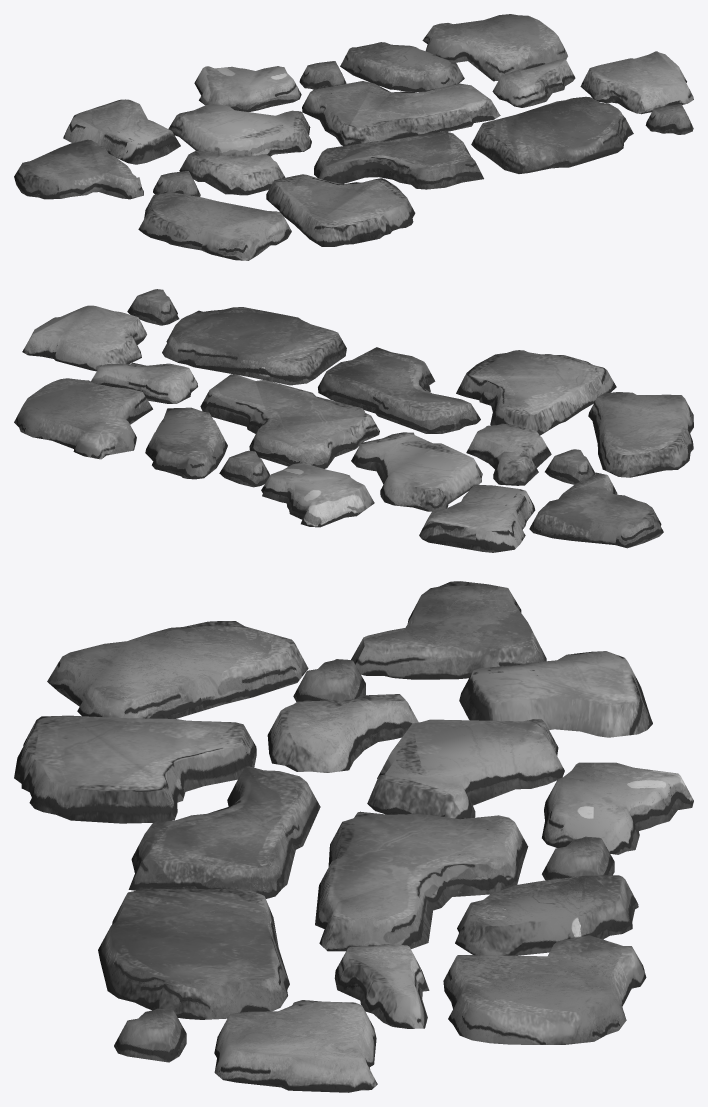
File: StonePath01.fbx
3 views of the same model, one above another, from view 1: azimuth 30°, elevation 25°; view 2: azimuth 150°, elevation 25°; view 3: azimuth 270°, elevation 25° (orthographic). The views are drawn at different scales.
Visible parts, largest first — view 1: StonePath01; view 2: StonePath01; view 3: StonePath01.
Boxes of the visible parts, x1=… form: StonePath01: x1=14, y1=14, x2=693, y2=260; StonePath01: x1=14, y1=289, x2=693, y2=552; StonePath01: x1=14, y1=581, x2=693, y2=1092.
Bounding box in the file's own units: 674 × 16.44 × 394.
